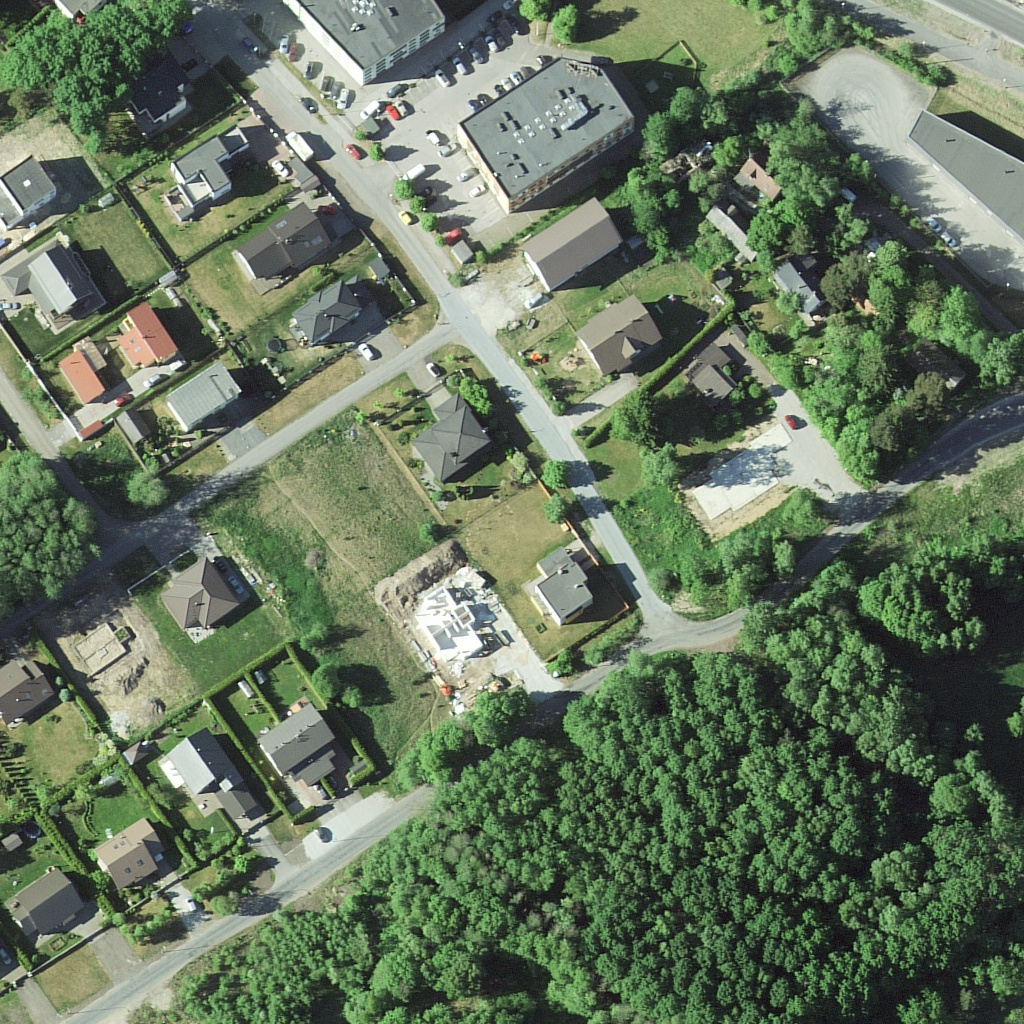building: (467, 61, 640, 209), (910, 108, 1024, 239), (293, 1, 447, 77), (522, 202, 622, 297), (5, 246, 110, 330), (167, 730, 251, 819), (244, 208, 325, 296), (416, 391, 487, 486), (161, 553, 238, 637), (261, 702, 338, 786), (169, 130, 242, 215), (582, 297, 660, 370), (94, 817, 161, 893), (5, 871, 84, 932), (175, 365, 245, 430), (542, 552, 597, 633), (3, 155, 64, 226), (117, 308, 182, 371), (1, 660, 62, 723), (131, 70, 188, 126), (57, 348, 111, 406), (696, 332, 737, 406)
